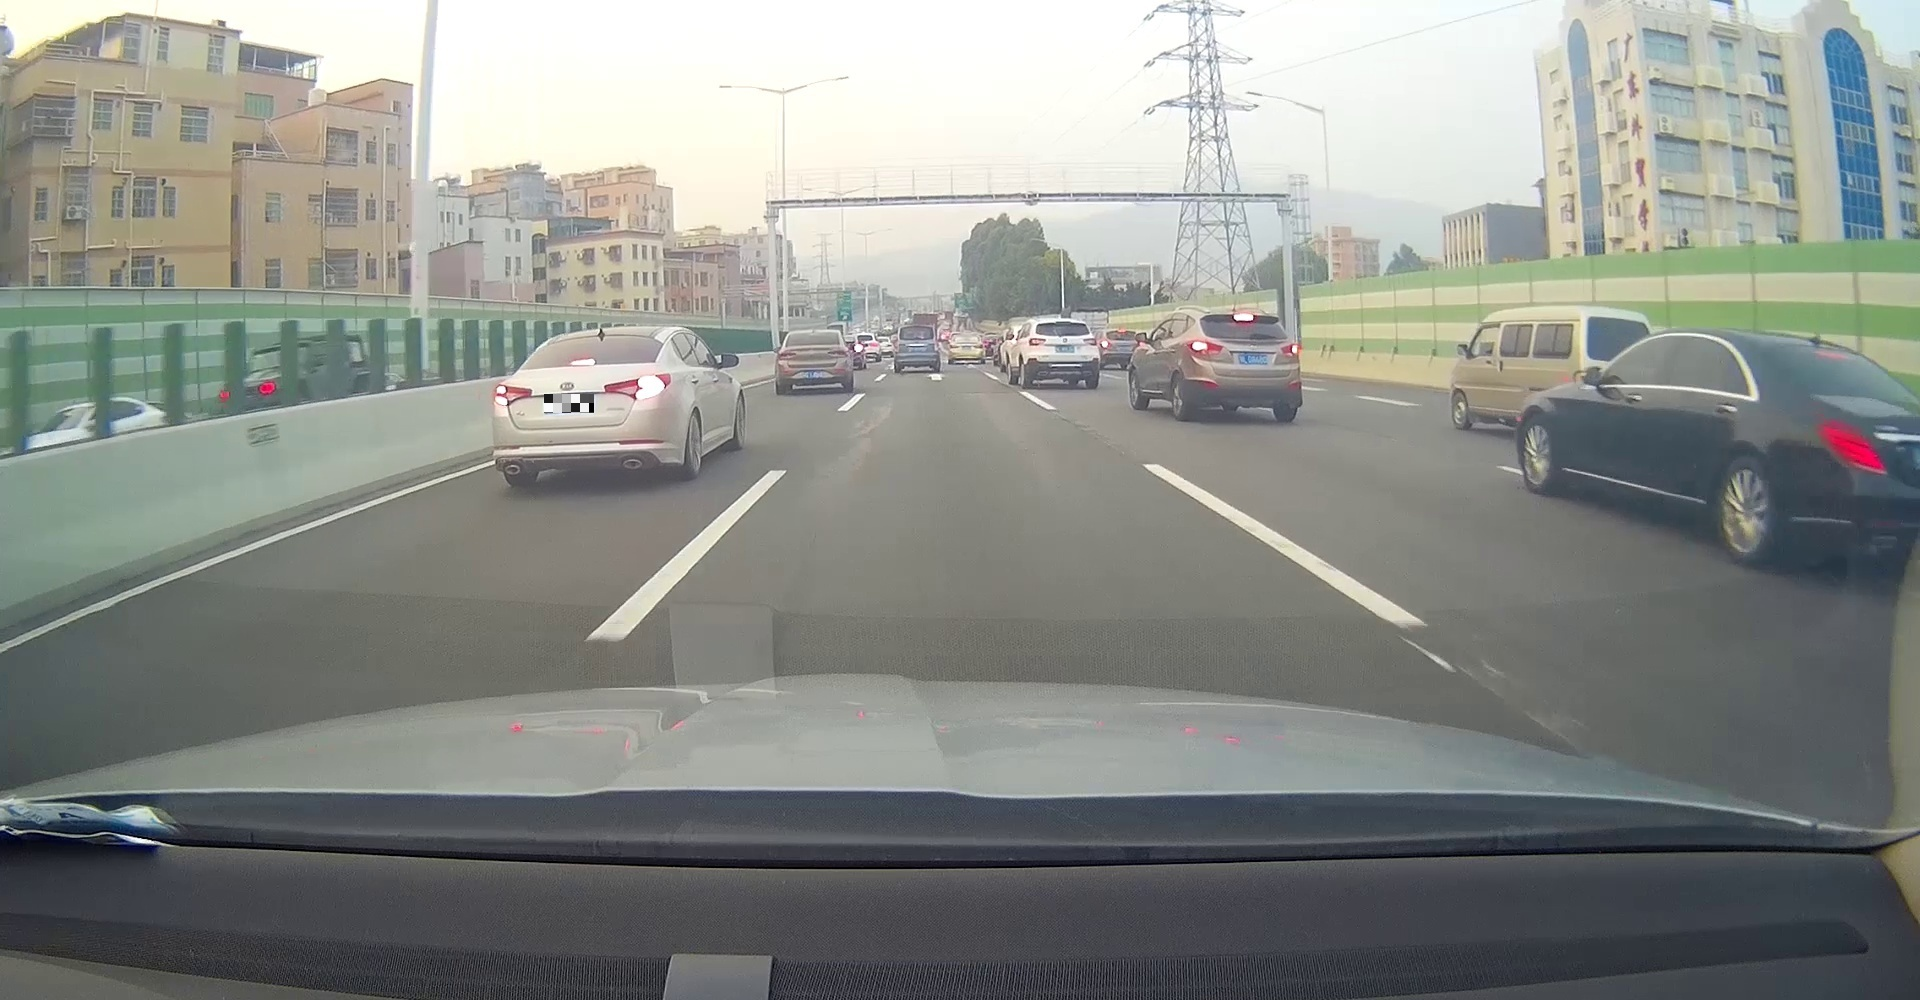L_light: (493, 385, 533, 405), (1186, 340, 1224, 355), (778, 352, 796, 360), (1029, 338, 1046, 346), (894, 339, 899, 353)
R_light: (604, 373, 670, 401), (1280, 343, 1300, 354), (827, 349, 848, 357), (1083, 338, 1097, 345), (935, 339, 938, 352)
T_light: (570, 358, 596, 365), (1233, 313, 1255, 321), (1055, 321, 1070, 325), (808, 332, 819, 336), (912, 326, 921, 329)
day-brake: (491, 326, 673, 489), (1185, 310, 1303, 423)
day-no: (775, 329, 855, 393), (1029, 319, 1100, 388), (894, 325, 941, 372)
plate_1: (543, 393, 594, 412)
